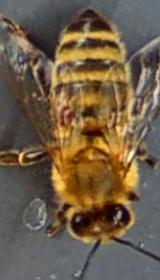varroa_mite: (51, 99, 84, 130)
